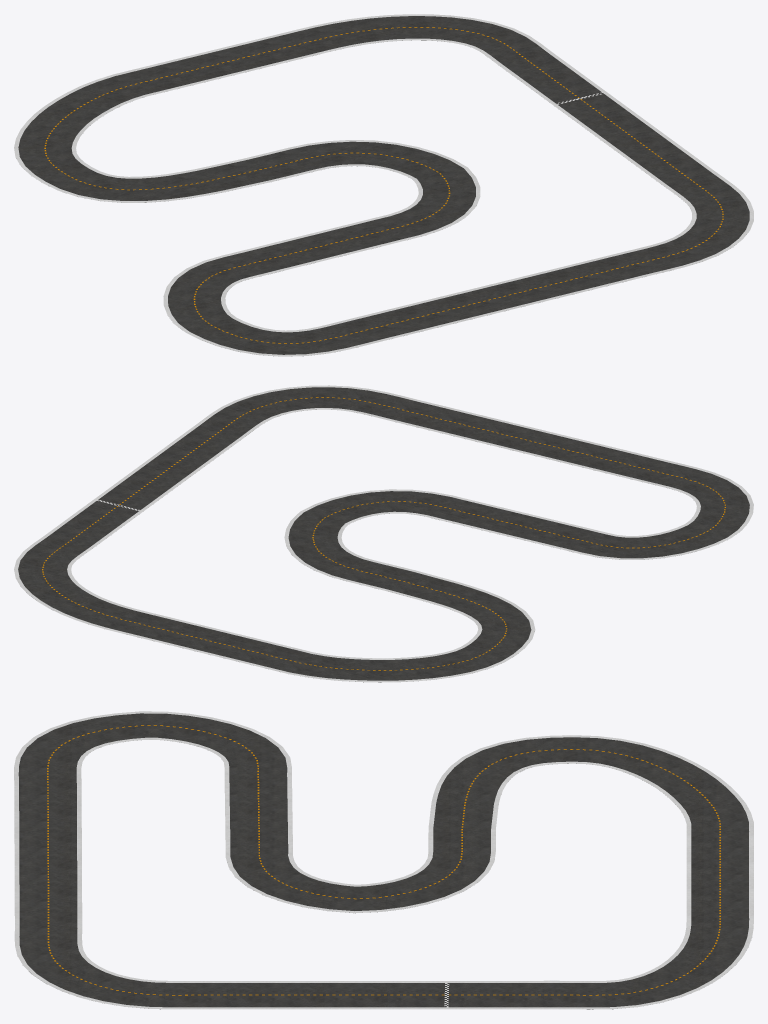
The model's file is 2022_may_open.dae.
3 views of the same model, one above another, from view 1: azimuth 30°, elevation 25°; view 2: azimuth 150°, elevation 25°; view 3: azimuth 270°, elevation 25° (orthographic). The views are drawn at different scales.
Parts seen in each view (by area): view 1: road, il, ol, cl; view 2: road, il, ol, cl; view 3: road, il, ol, cl.
Part boxes in pixels (<box>): road: <box>18,16,749,356</box>; il: <box>14,14,753,356</box>; ol: <box>71,38,696,332</box>; cl: <box>44,27,723,343</box>; road: <box>18,387,749,682</box>; il: <box>14,385,753,682</box>; ol: <box>67,408,700,659</box>; cl: <box>42,397,725,670</box>; road: <box>18,713,749,1009</box>; il: <box>14,711,753,1009</box>; ol: <box>76,737,691,982</box>; cl: <box>47,725,720,995</box>.
Size of what is drawn, in the model's own units: 11.16 by 11.71 by 0.0015.
Materials: 5 (5 with a texture image).
